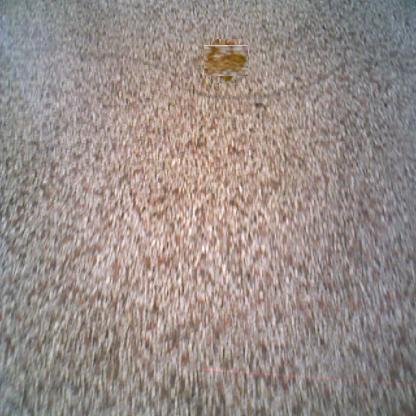liquid: (208, 42, 245, 80)
